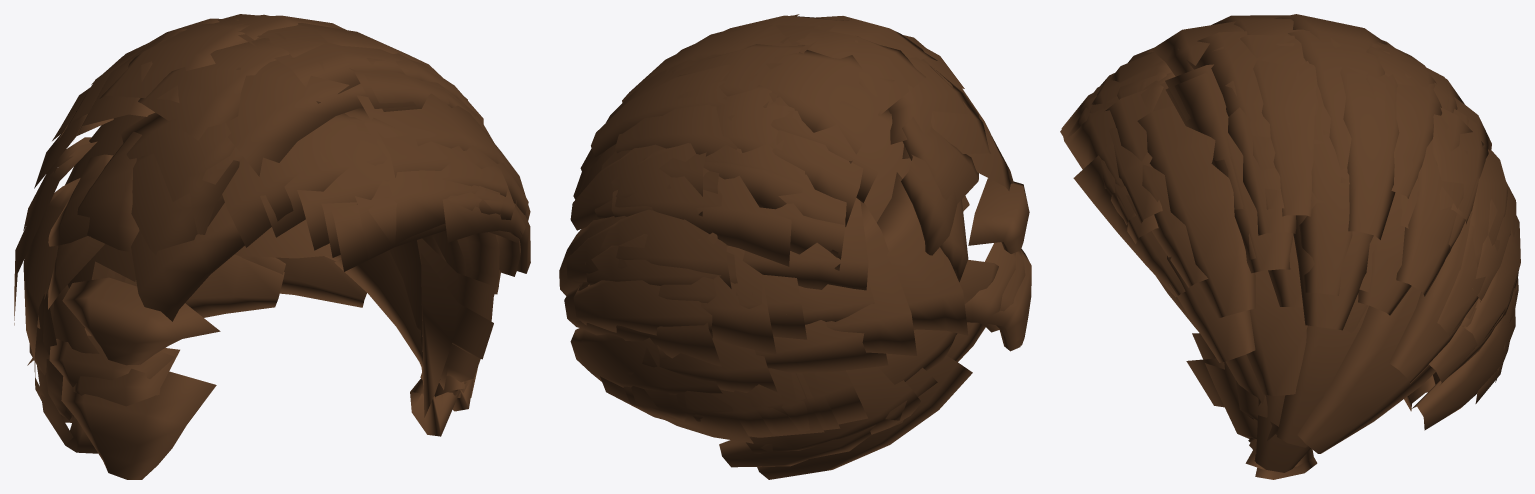
File: side_swept_m.glb
3 renders of one model, left to right at view 1: azimuth 30°, elevation 25°; view 2: azimuth 150°, elevation 25°; view 3: azimuth 270°, elevation 25°, orthographic. The views are drawn at different scales.
Parts seen in each view (by area): view 1: side_swept_m; view 2: side_swept_m; view 3: side_swept_m.
Part boxes in pixels (<box>): side_swept_m: <box>14,14,530,479</box>; side_swept_m: <box>559,14,1031,479</box>; side_swept_m: <box>1060,14,1520,479</box>.
Bounding box in the file's own units: 0.2388 × 0.2226 × 0.2348.
